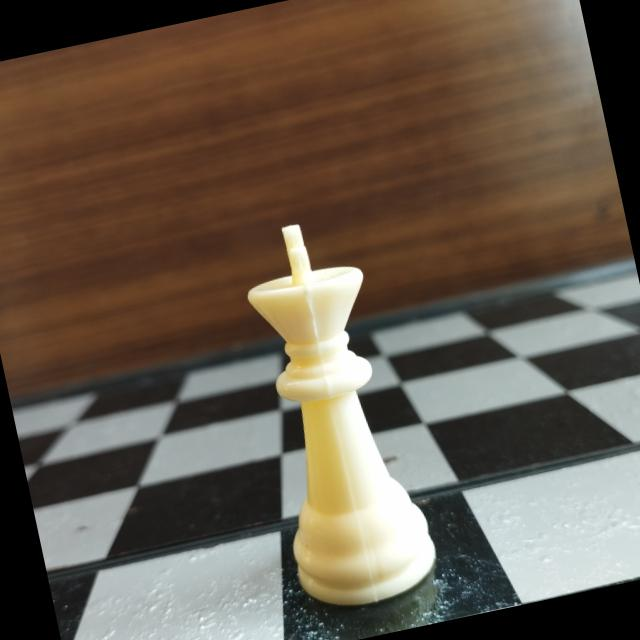White King: (206, 194, 460, 626)
